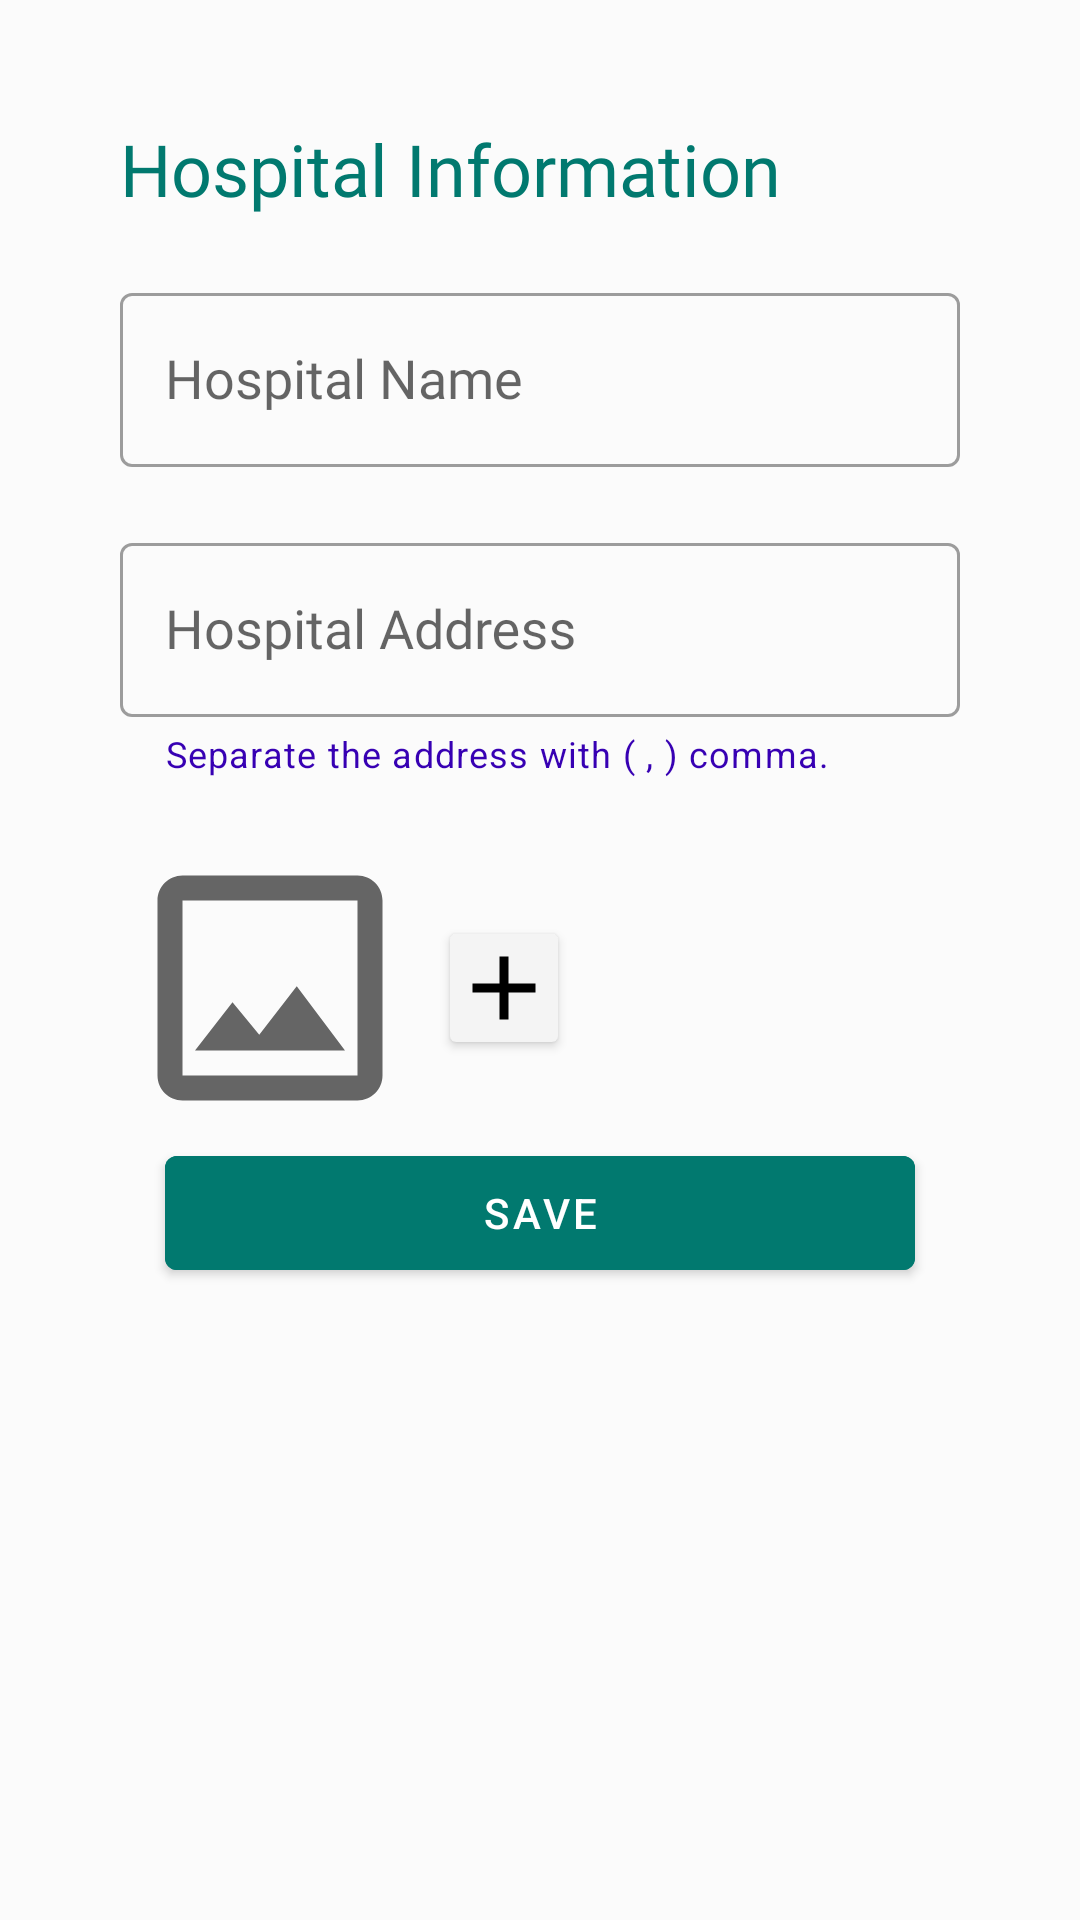

Locate icon controls on the screen. Image size 1080×1920, boxes as detection(x1, y1, x2, y2).
add: detection(472, 956, 536, 1020)
